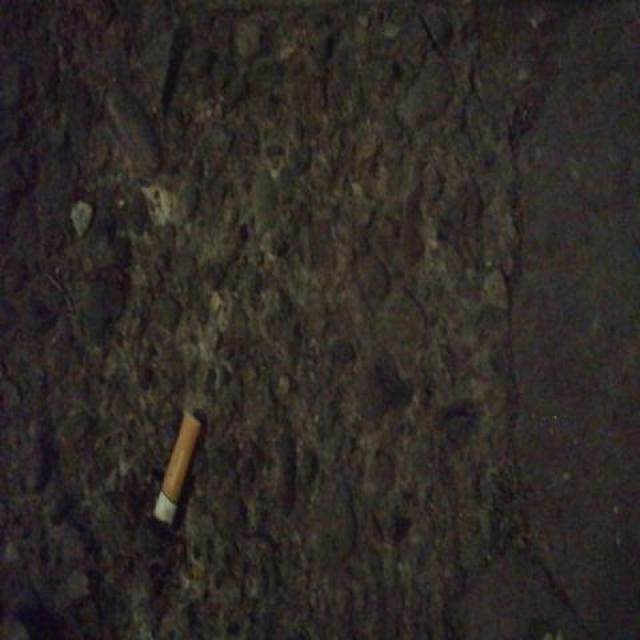non-organic waste: (147, 406, 205, 534)
